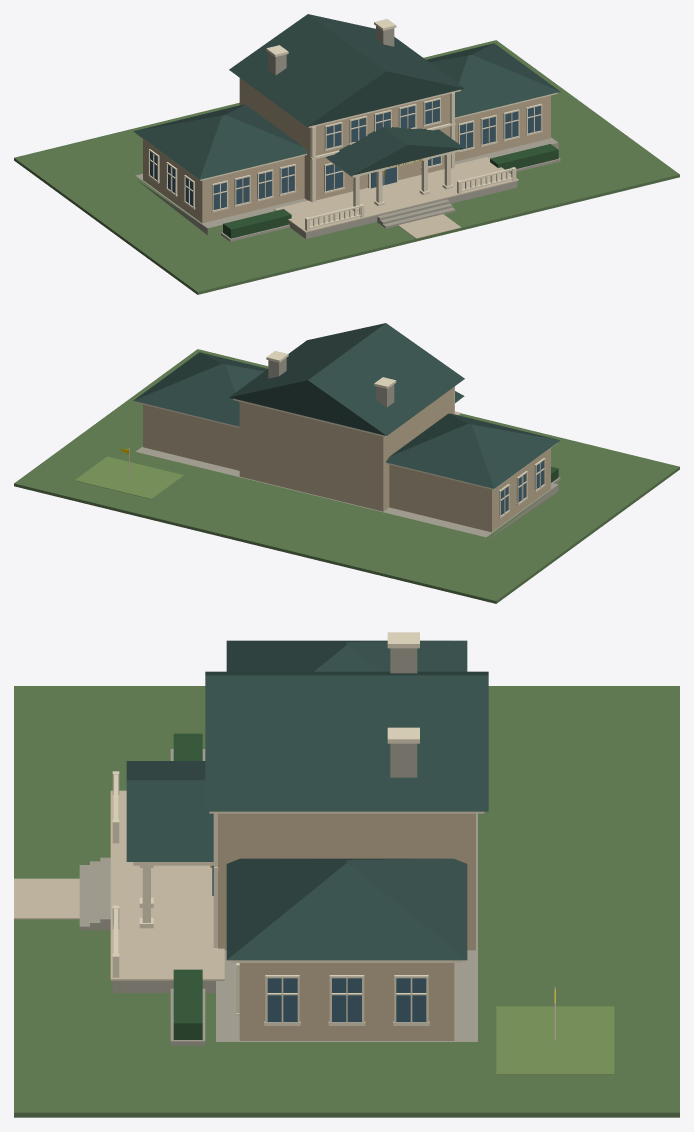
The model's file is clubhouse.glb.
The picture shows the model from 3 angles, top to bottom: view 1: azimuth 30°, elevation 25°; view 2: azimuth 150°, elevation 25°; view 3: azimuth 270°, elevation 25°; orthographic projection. The views are drawn at different scales.
Visible parts, largest first — view 1: lawn plinth.001, central gabled roof.001, west hipped roof.001, terrace paving cap.001, east hipped roof.001, central two storey hall.001, west club wing.001, portico gabled canopy.001, east club wing.001, clubhouse foundation.001, front stone terrace.001, west clipped hedge.001 (+2 smaller); view 2: lawn plinth.001, central gabled roof.001, central two storey hall.001, west hipped roof.001, west club wing.001, east hipped roof.001, east club wing.001, practice green.001, clubhouse foundation.001; view 3: lawn plinth.001, central gabled roof.001, east hipped roof.001, central two storey hall.001, terrace paving cap.001, east club wing.001, portico gabled canopy.001, practice green.001, west hipped roof.001, clubhouse foundation.001, arrival walk.001, east clipped hedge.001 (+11 smaller).
Boxes of the visible parts, x1,y1,x2,y2 form: lawn plinth.001: [14, 40, 679, 294]; central gabled roof.001: [229, 14, 464, 126]; west hipped roof.001: [133, 104, 307, 179]; terrace paving cap.001: [274, 157, 518, 232]; east hipped roof.001: [426, 43, 560, 117]; central two storey hall.001: [239, 78, 450, 201]; west club wing.001: [143, 139, 304, 223]; portico gabled canopy.001: [326, 127, 464, 175]; east club wing.001: [455, 95, 550, 161]; clubhouse foundation.001: [135, 137, 558, 234]; front stone terrace.001: [289, 181, 517, 238]; west clipped hedge.001: [223, 209, 291, 238]; lawn plinth.001: [14, 349, 679, 603]; central gabled roof.001: [229, 323, 464, 435]; central two storey hall.001: [239, 387, 454, 511]; west hipped roof.001: [386, 413, 560, 488]; west club wing.001: [389, 448, 550, 532]; east hipped roof.001: [133, 352, 267, 426]; east club wing.001: [143, 404, 239, 470]; practice green.001: [75, 456, 183, 499]; clubhouse foundation.001: [135, 446, 558, 539]; lawn plinth.001: [14, 686, 679, 1117]; central gabled roof.001: [205, 671, 488, 811]; east hipped roof.001: [226, 858, 467, 960]; central two storey hall.001: [218, 813, 475, 950]; terrace paving cap.001: [110, 790, 224, 980]; east club wing.001: [239, 963, 454, 1040]; portico gabled canopy.001: [126, 761, 213, 861]; practice green.001: [496, 1006, 614, 1074]; west hipped roof.001: [226, 640, 467, 671]; clubhouse foundation.001: [216, 813, 477, 1041]; arrival walk.001: [14, 878, 79, 919]; east clipped hedge.001: [173, 969, 202, 1039].
Size of the model in its own units: 47000 by 11760 by 31001.
